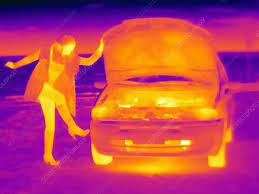car: (90, 15, 235, 171)
person: (5, 31, 106, 182)
